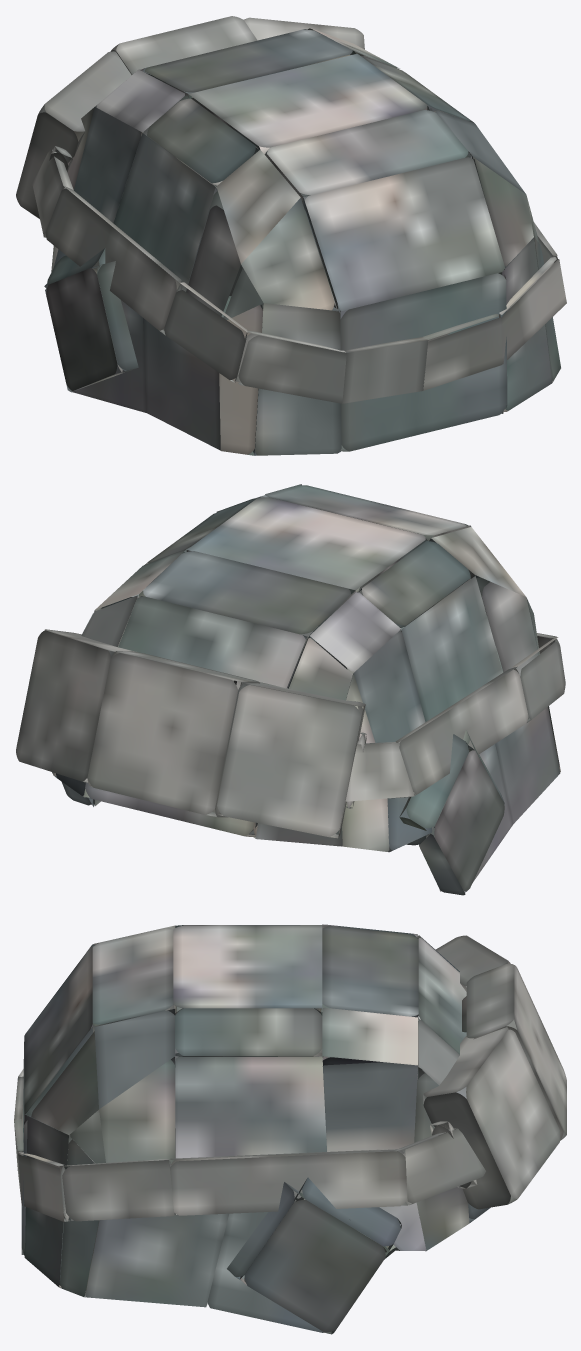
Rendered from us_mobilized_h.obj.
3 renders of one model, top to bottom at view 1: azimuth 30°, elevation 25°; view 2: azimuth 150°, elevation 25°; view 3: azimuth 270°, elevation 25°, orthographic.
Parts seen in each view (by area): view 1: cube; view 2: cube; view 3: cube.
Boxes of the visible parts, left/top/right/bottom form: cube: left=16, top=16, right=566, bottom=455; cube: left=16, top=484, right=565, bottom=895; cube: left=14, top=924, right=566, bottom=1334.
Bounding box in the file's own units: 0.7803 × 0.517 × 0.9393.
